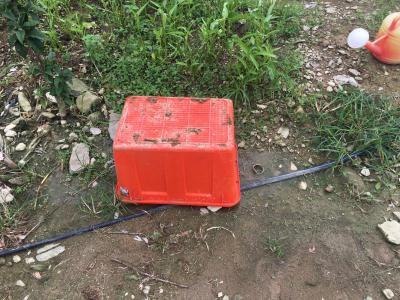bowl: (372, 10, 400, 64)
box: (107, 93, 244, 208)
